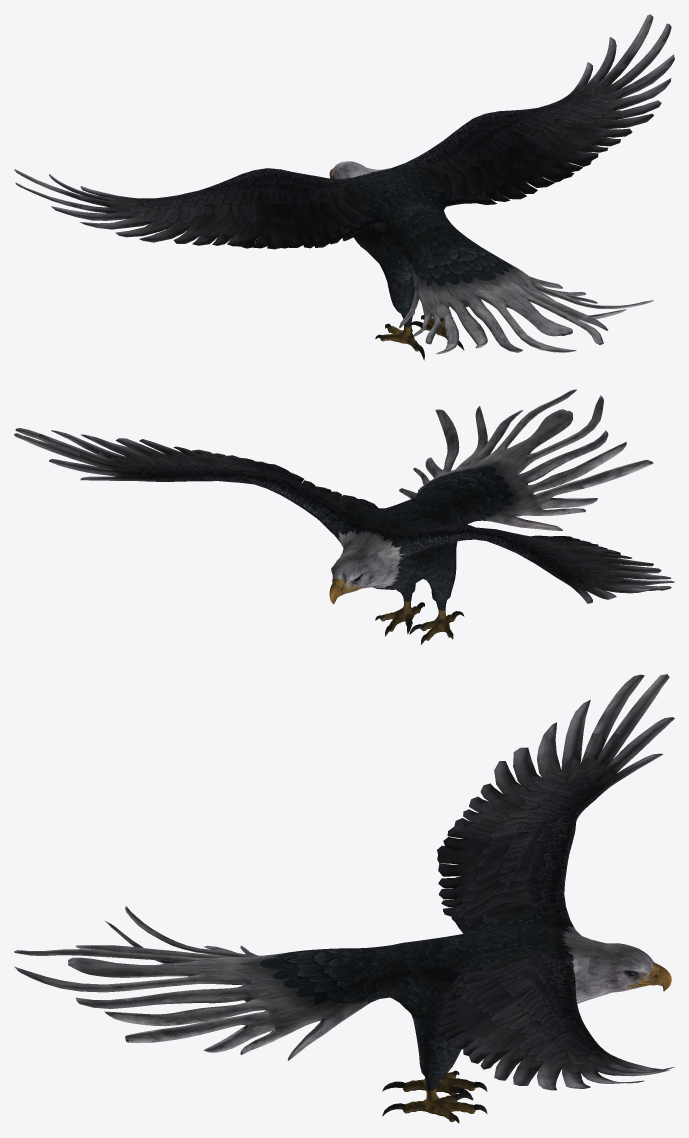
3 renders of one model, top to bottom at view 1: azimuth 30°, elevation 25°; view 2: azimuth 150°, elevation 25°; view 3: azimuth 270°, elevation 25°, orthographic. The views are drawn at different scales.
Visible parts, largest first — view 1: Mesh_0041_Tex_0039_0.dds_0, Mesh_0042_Tex_0042_0.dds_0, Mesh_0038_Tex_0038_0.dds_0; view 2: Mesh_0041_Tex_0039_0.dds_0, Mesh_0042_Tex_0042_0.dds_0, Mesh_0038_Tex_0038_0.dds_0, Mesh_0037_Tex_0034_0.dds_0; view 3: Mesh_0041_Tex_0039_0.dds_0, Mesh_0042_Tex_0042_0.dds_0, Mesh_0038_Tex_0038_0.dds_0, Mesh_0037_Tex_0034_0.dds_0.
Boxes of the visible parts, x1,y1,x2,y2 form: Mesh_0041_Tex_0039_0.dds_0: (14, 14, 674, 249); Mesh_0042_Tex_0042_0.dds_0: (399, 225, 653, 354); Mesh_0038_Tex_0038_0.dds_0: (349, 168, 464, 360); Mesh_0041_Tex_0039_0.dds_0: (14, 428, 674, 603); Mesh_0042_Tex_0042_0.dds_0: (399, 389, 653, 530); Mesh_0038_Tex_0038_0.dds_0: (342, 494, 465, 644); Mesh_0037_Tex_0034_0.dds_0: (329, 544, 387, 604); Mesh_0041_Tex_0039_0.dds_0: (437, 674, 674, 1090); Mesh_0042_Tex_0042_0.dds_0: (14, 906, 403, 1060); Mesh_0038_Tex_0038_0.dds_0: (382, 927, 590, 1123); Mesh_0037_Tex_0034_0.dds_0: (586, 939, 671, 1000).
Bounding box in the file's own units: 183 × 48.71 × 126.
Materials: 6 (6 with a texture image).
